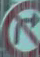Don't turn right: (1, 2, 39, 55)
